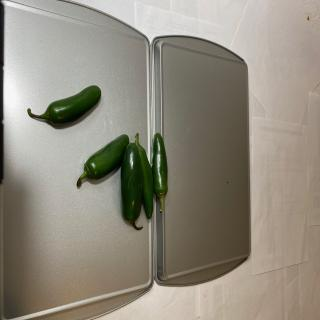Tomato: (27, 85, 101, 126), (76, 134, 130, 188), (120, 142, 143, 230), (134, 133, 154, 220), (151, 132, 168, 213)
